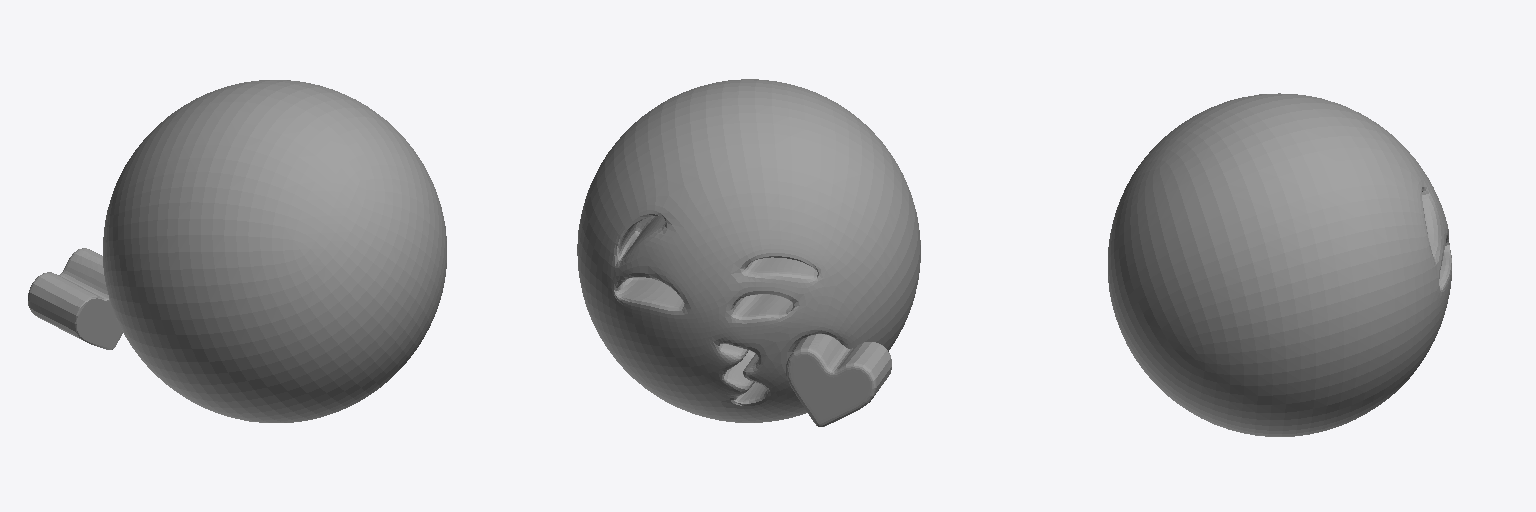
Rendered from emojiKiss.obj.
The picture shows the model from 3 angles: view 1: azimuth 30°, elevation 25°; view 2: azimuth 150°, elevation 25°; view 3: azimuth 270°, elevation 25°; orthographic projection.
Visible parts, largest first — view 1: Group13086; view 2: Group13086; view 3: Group13086.
Boxes of the visible parts, x1,y1,x2,y2 form: Group13086: [28, 80, 446, 422]; Group13086: [577, 79, 920, 426]; Group13086: [1108, 93, 1451, 436].
Bounding box in the file's own units: 1.7 × 1.51 × 1.51.